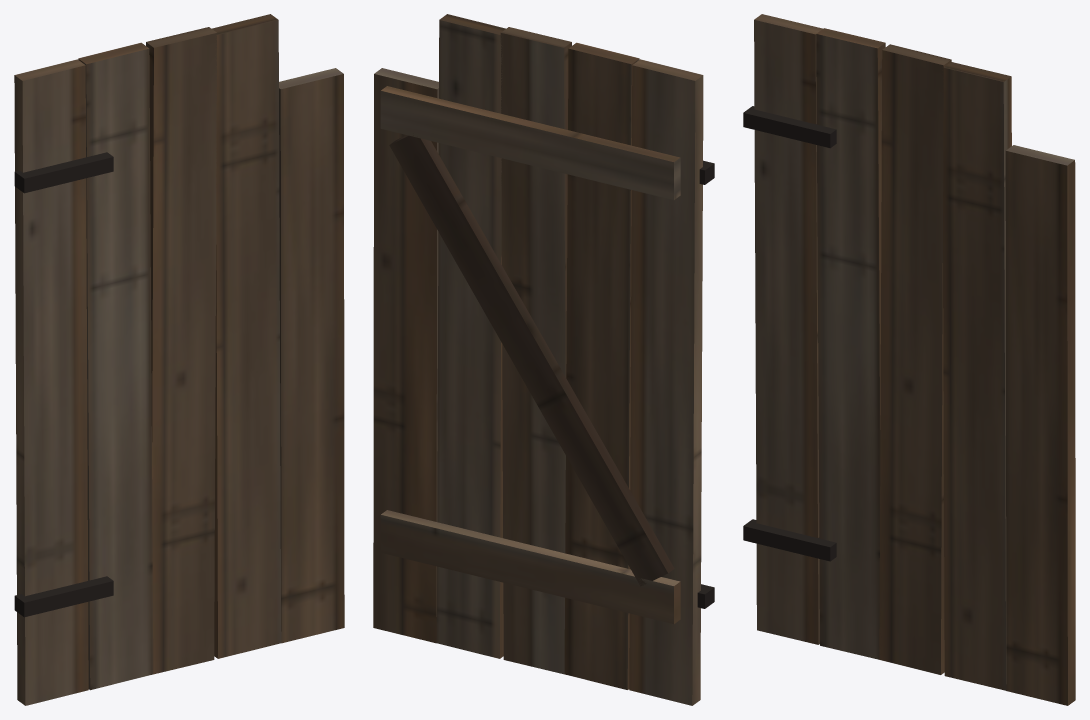
The model's file is door.gltf.
3 views of the same model, side by side, from view 1: azimuth 30°, elevation 25°; view 2: azimuth 150°, elevation 25°; view 3: azimuth 330°, elevation 25° (orthographic). The views are drawn at different scales.
Visible parts, largest first — view 1: door; view 2: door; view 3: door.
Part boxes in pixels (x1,y1,x2,y2): door: (14,14,344,705); door: (373,14,714,705); door: (743,14,1075,705).
Size of the model in its own units: 1.17 by 2.15 by 0.13.
Materials: 2 (1 with a texture image).
